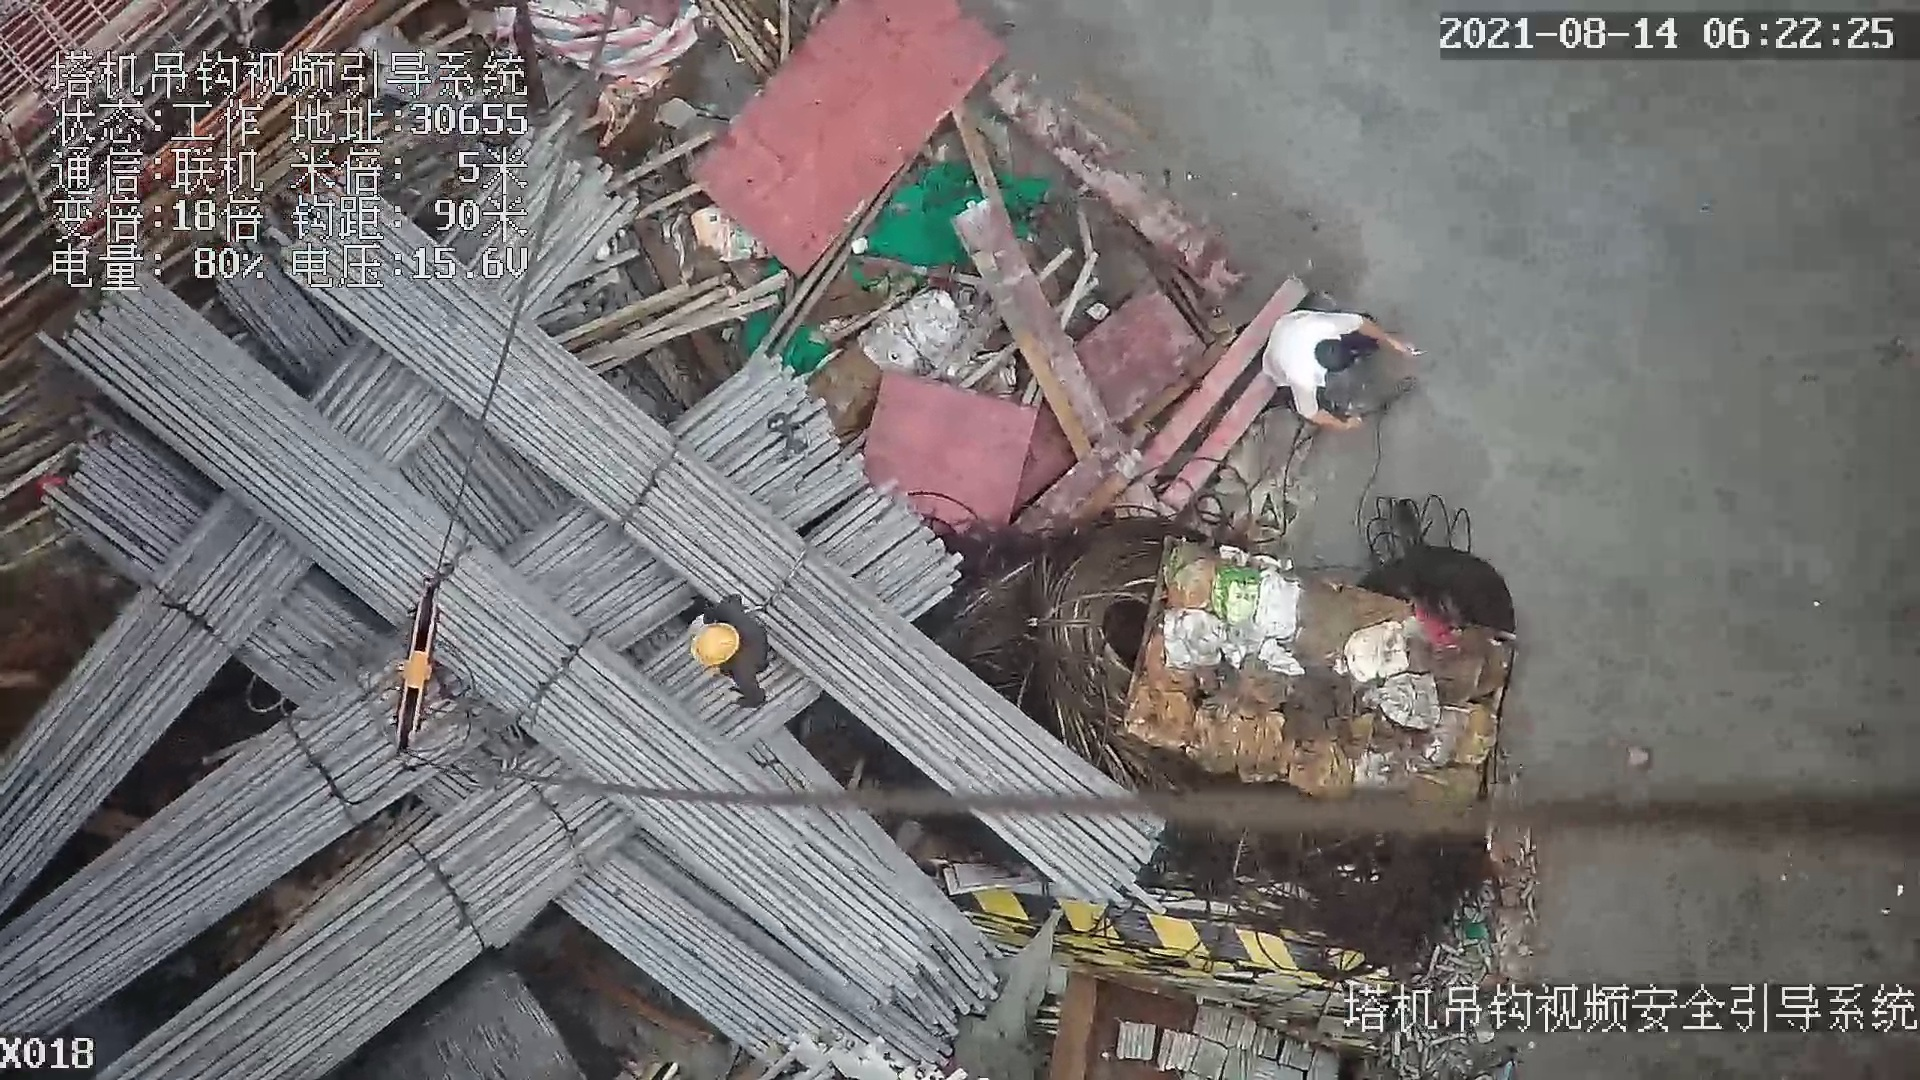board: (684, 1, 1008, 278)
helmet: (689, 624, 740, 667)
hook: (394, 589, 454, 759)
person: (1260, 309, 1428, 435), (686, 592, 779, 710)
